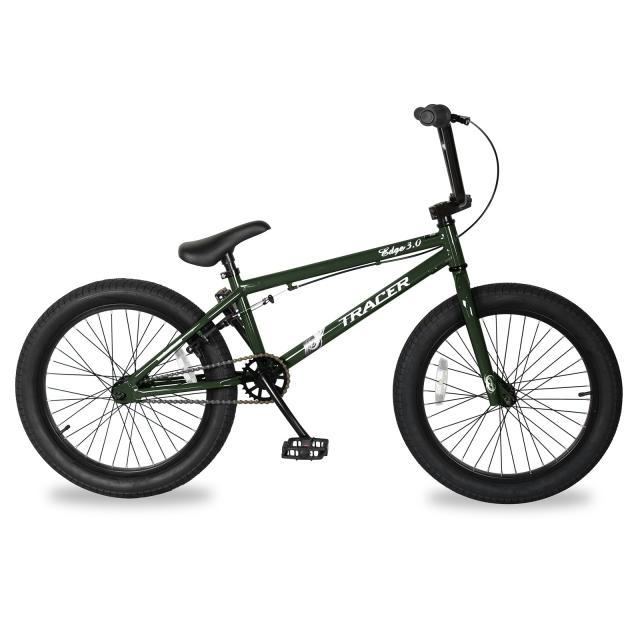bmx-bike: (12, 105, 625, 508)
